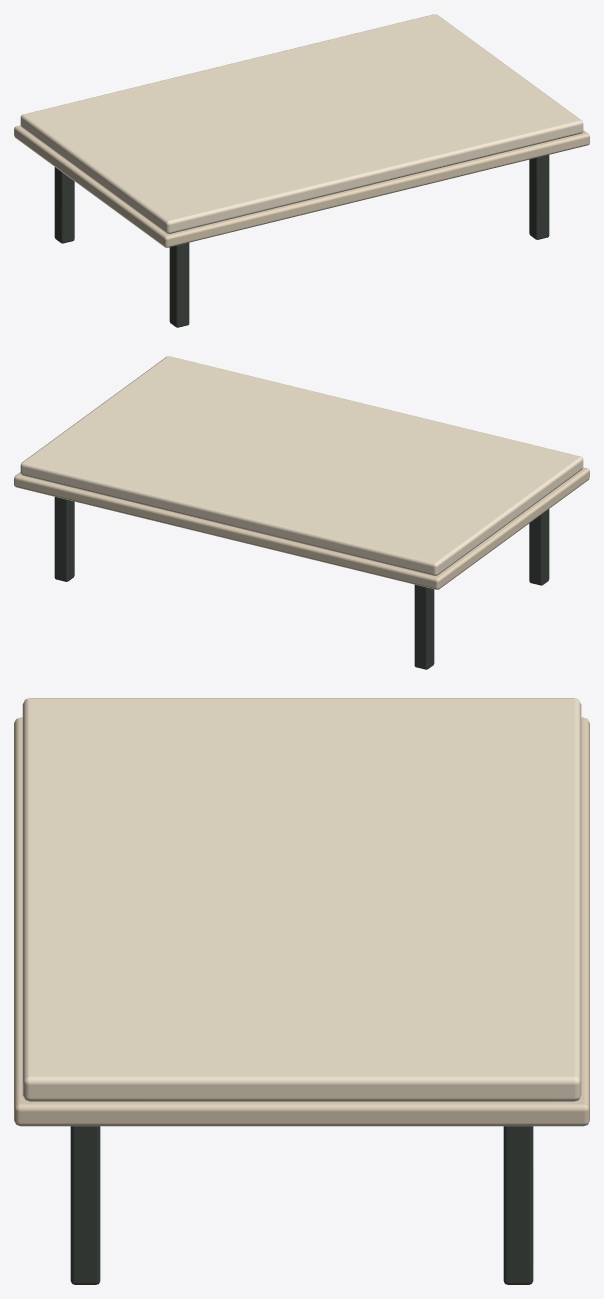
Rendered from conservation-bench-v3.glb.
3 renders of one model, top to bottom at view 1: azimuth 30°, elevation 25°; view 2: azimuth 150°, elevation 25°; view 3: azimuth 270°, elevation 25°, orthographic. The views are drawn at different scales.
Visible parts, largest first — view 1: Padded working surface, Worktable edge, Conservation table leg (×3); view 2: Padded working surface, Worktable edge, Conservation table leg (×3); view 3: Padded working surface, Worktable edge, Conservation table leg (×2).
Part boxes in pixels (<box>): Padded working surface: <box>20,14,583,233</box>; Worktable edge: <box>14,125,589,247</box>; Conservation table leg (×3): <box>54,155,549,327</box>; Padded working surface: <box>20,356,583,575</box>; Worktable edge: <box>14,467,589,589</box>; Conservation table leg (×3): <box>54,497,549,669</box>; Padded working surface: <box>22,698,581,1101</box>; Worktable edge: <box>14,717,589,1126</box>; Conservation table leg (×2): <box>70,1126,533,1284</box>.
Size of the model in its own units: 2.65 by 0.72 by 1.65.
